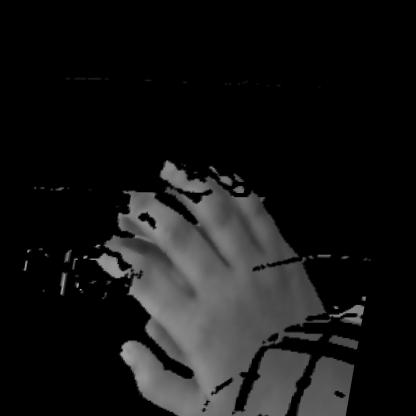dua: (71, 126, 370, 415)
